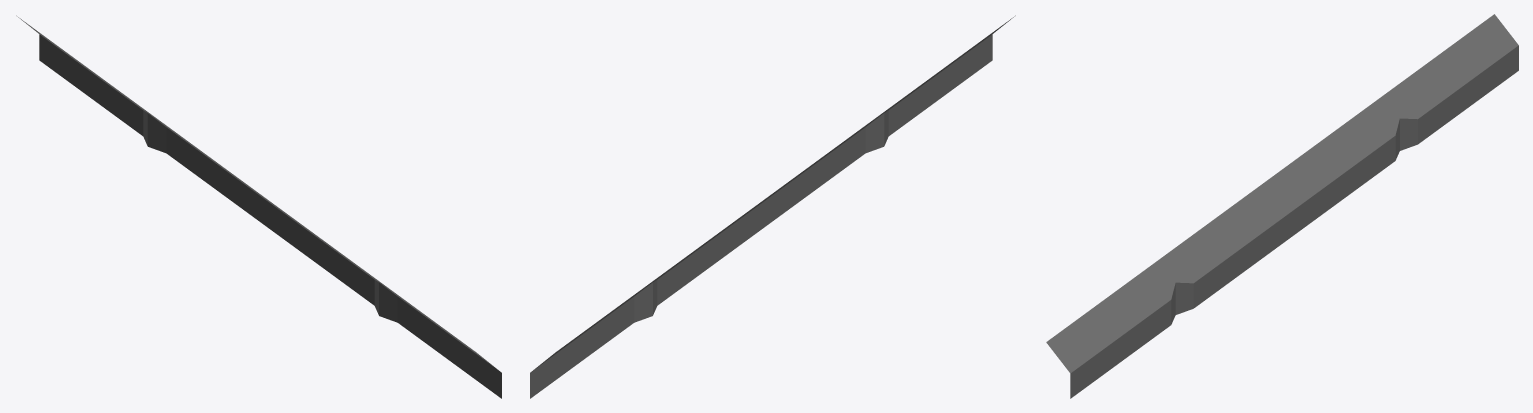
File: Trim.fbx
3 renders of one model, left to right at view 1: azimuth 30°, elevation 25°; view 2: azimuth 150°, elevation 25°; view 3: azimuth 330°, elevation 25°, orthographic. The views are drawn at different scales.
Parts seen in each view (by area): view 1: Trim; view 2: Trim; view 3: Trim.
Part boxes in pixels (x1,y1,x2,y2): Trim: (16, 15, 501, 398); Trim: (530, 15, 1015, 398); Trim: (1046, 14, 1518, 398).
Bounding box in the file's own units: 0.0485 × 0.097 × 1.55.
1 material, 1 textured.
